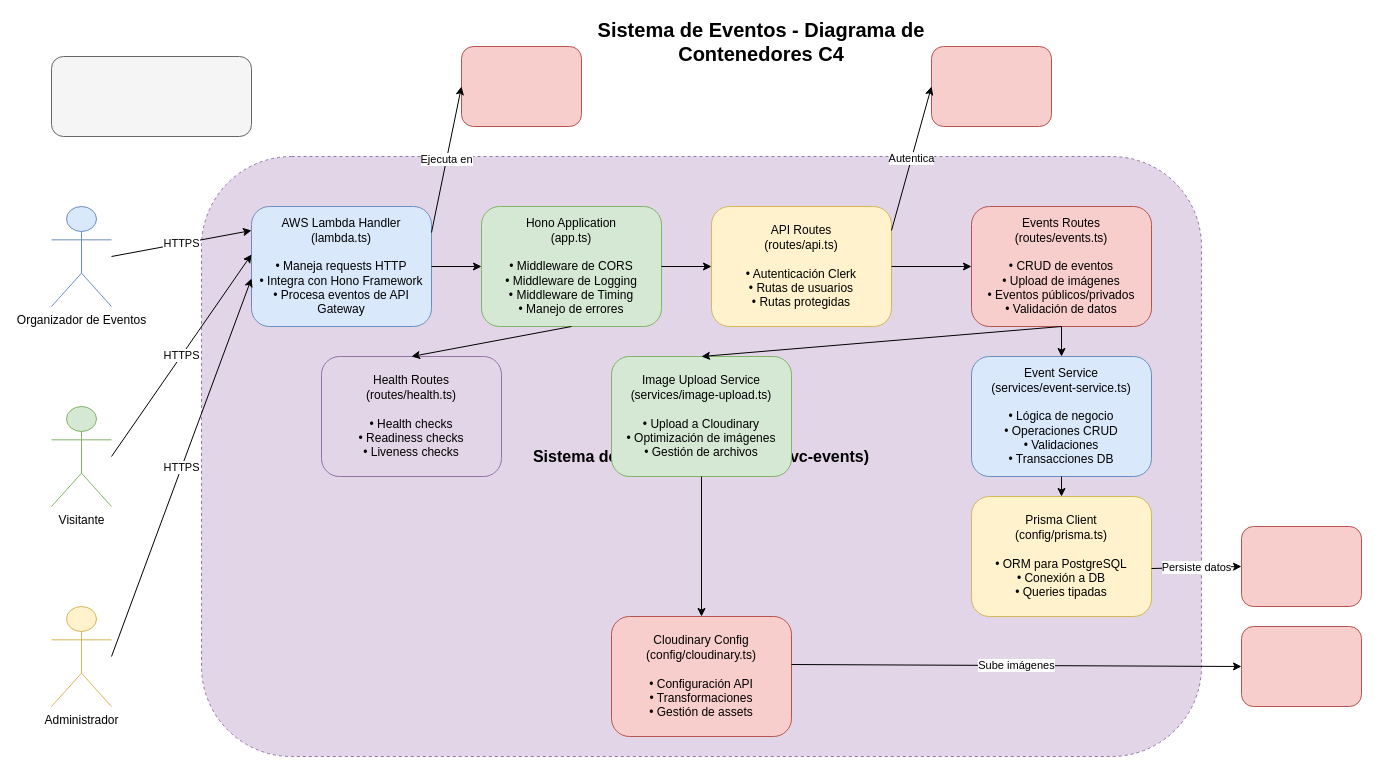
The diagram is 1379 pixels wide and 774 high, and some of its shapes have lost their labels. Here are the shapes that lost their labels. From the top down, the centre of each, then its label:
At [151,96]: "Leyenda: • Contenedores internos • Servicios externos • Flujo de datos".
At [521,86]: "AWS Lambda (Runtime)".
At [991,86]: "Clerk (Autenticación)".
At [1301,566]: "PostgreSQL (Base de Datos)".
At [1301,666]: "Cloudinary (CDN de Imágenes)".
